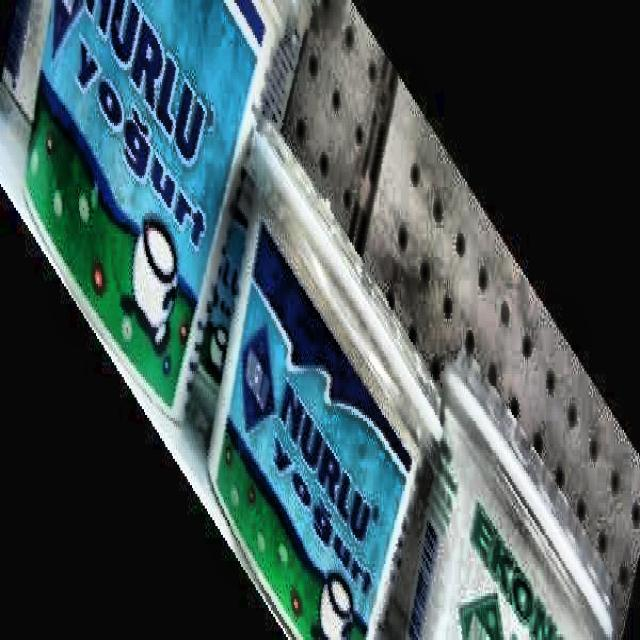plastic: (210, 123, 440, 635)
